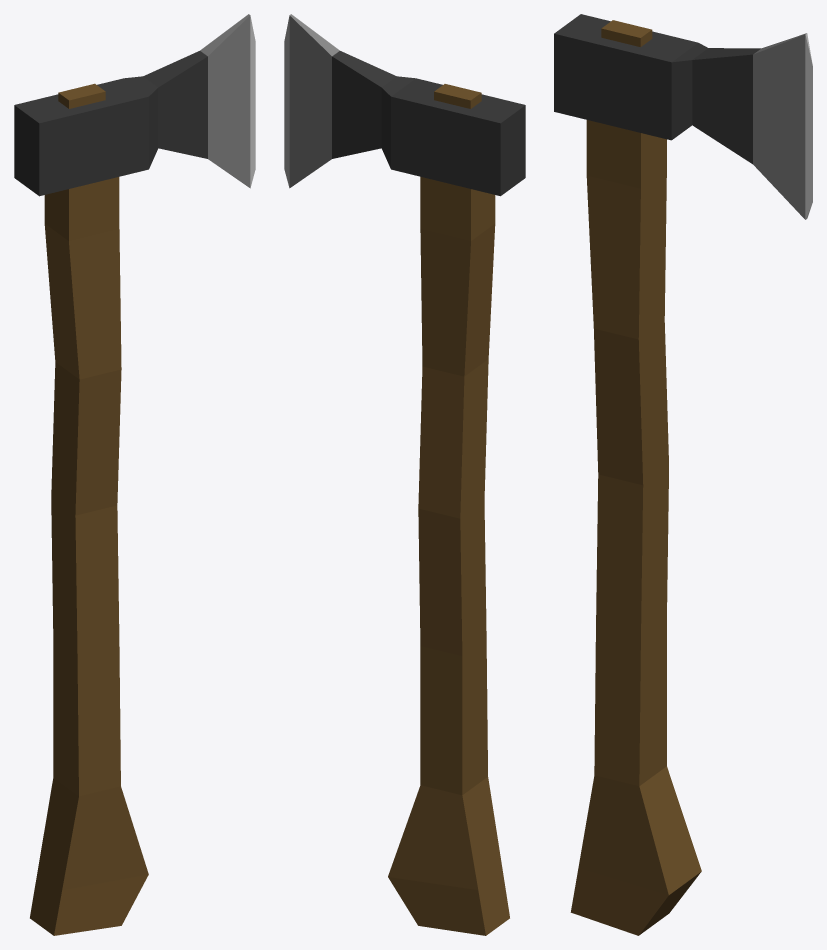
File: axe.glb
3 renders of one model, left to right at view 1: azimuth 30°, elevation 25°; view 2: azimuth 150°, elevation 25°; view 3: azimuth 330°, elevation 25°, orthographic. The views are drawn at different scales.
Parts seen in each view (by area): view 1: Cube, Cube.001; view 2: Cube, Cube.001; view 3: Cube, Cube.001.
Part boxes in pixels (<box>): Cube: <box>30,83,148,935</box>; Cube.001: <box>14,14,255,196</box>; Cube: <box>388,84,509,935</box>; Cube.001: <box>284,14,525,196</box>; Cube: <box>570,20,701,935</box>; Cube.001: <box>554,14,812,219</box>.
Bounding box in the file's own units: 2.01 × 7.25 × 0.4758.
